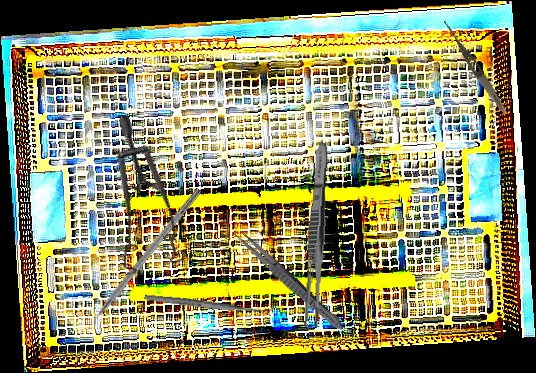Dressing Forceps: (228, 224, 349, 336), (439, 18, 510, 116), (303, 142, 331, 328)
Hook Surgical: (76, 187, 203, 340)
Speculum: (46, 113, 221, 295)
Surgical Spoon: (143, 293, 273, 317)
